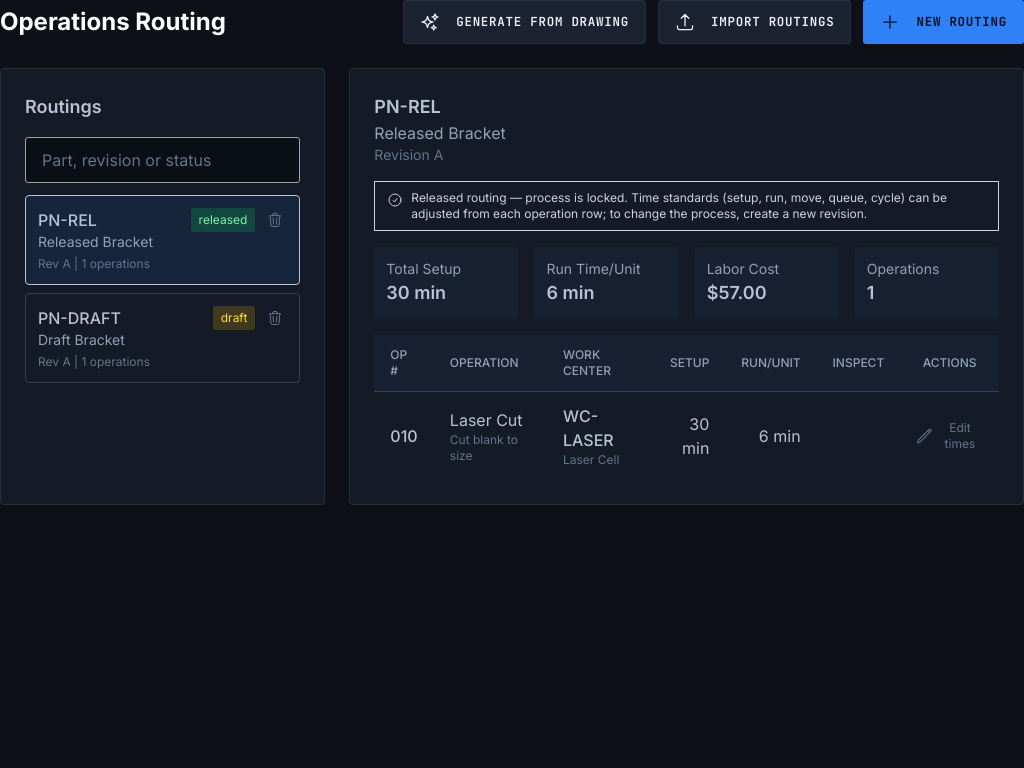
it: Routing — released time-standard editing › surfaces a 403 from the server with a role-specific message
This screenshot has width=1024, height=768.
Expected: the text "Laser Cut" is shown, [450,408,531,432]
Click the button titled "Edit time standards": (950, 436) [916,420,983,452]
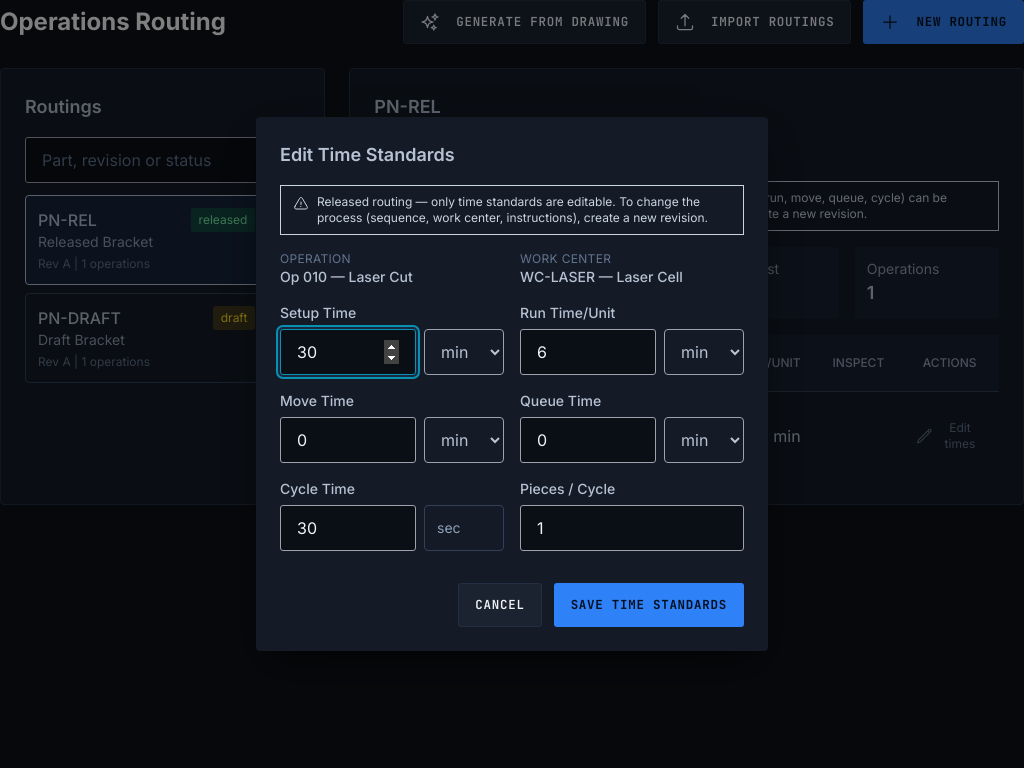
Click the button "Save Time Standards": (649, 605) [554,583,744,627]
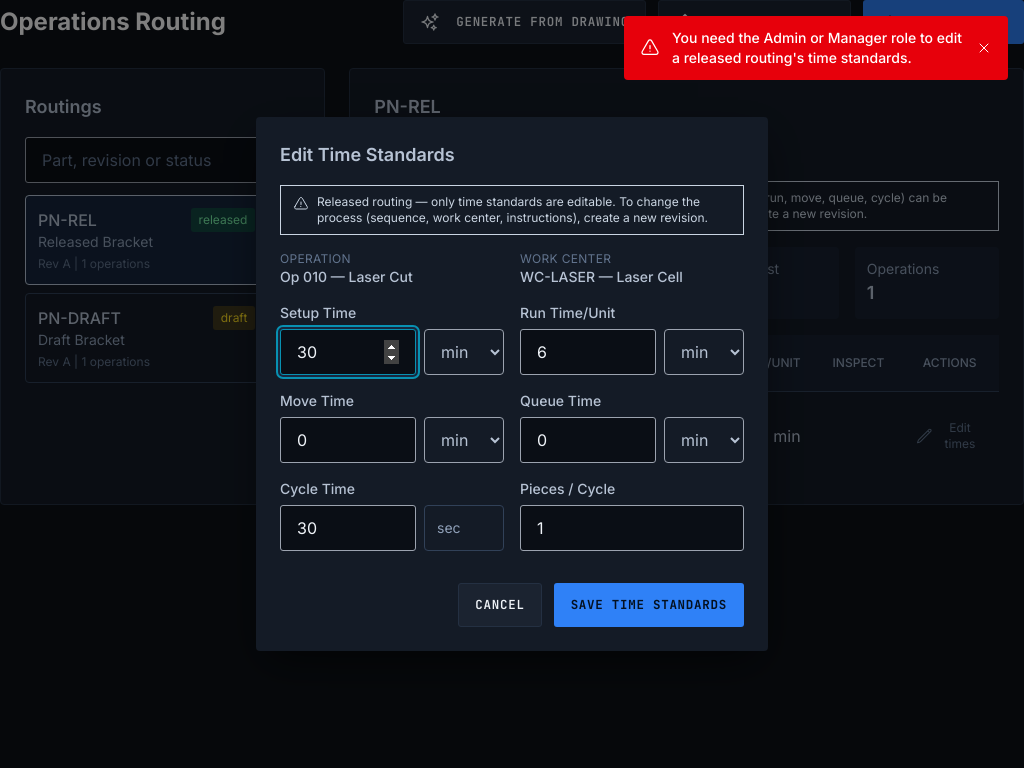
Result: the text "You need the Admin or Manager role to edit a released routing's time standards." is shown at [672,28,964,68]
